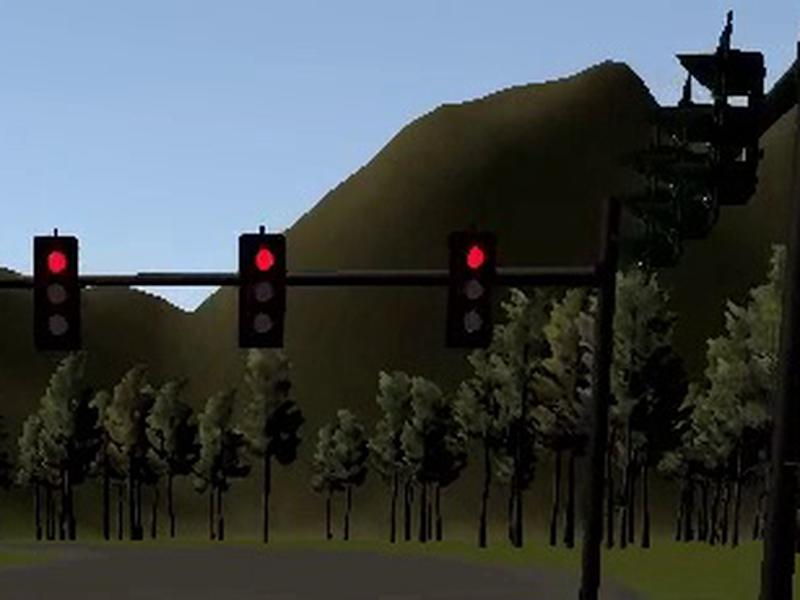Red: (446, 233, 497, 348), (239, 233, 285, 348), (33, 236, 79, 349)
